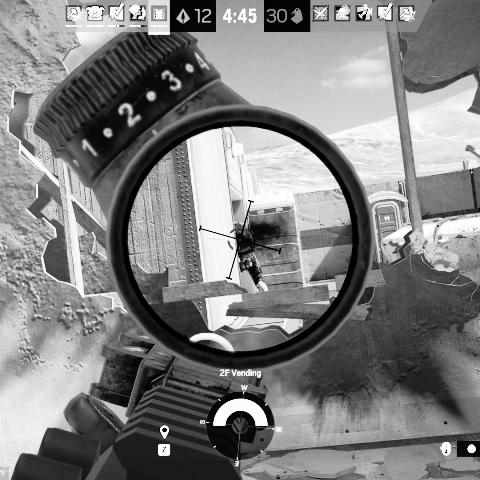Character: (229, 219, 269, 294)
Head: (233, 221, 244, 230)
